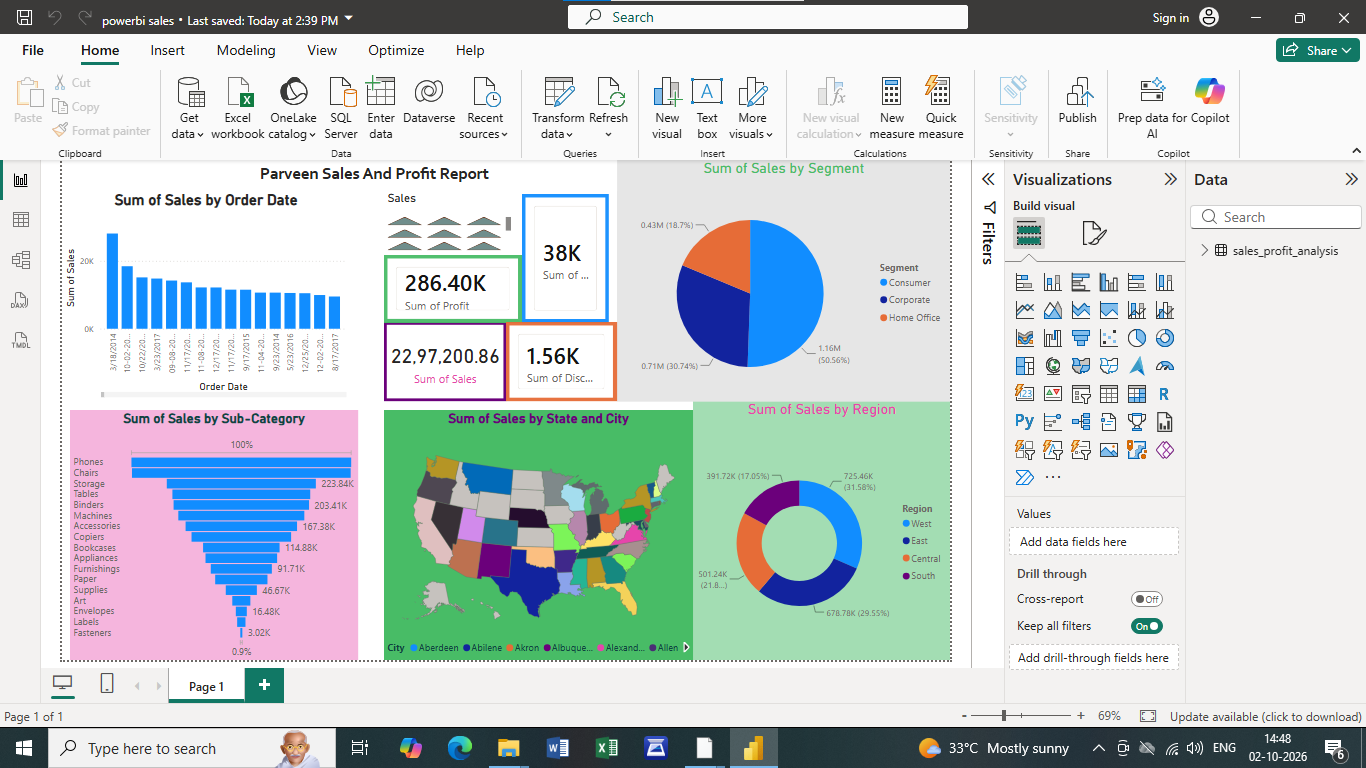

The page's visual inventory and layout, read from the dashboard file:
{"tool":"powerbi","page":{"name":"Page 1","canvas":[1280,720],"ordinal":0},"visuals":[{"type":"donutChart","fields":{"Category":["sales_profit_analysis.Region"],"Y":["Sum(sales_profit_analysis.Sales)"]},"box":[908.8,347.7,371.2,372.9],"z":0},{"type":"funnel","fields":{"Category":["sales_profit_analysis.Sub-Category"],"Y":["Sum(sales_profit_analysis.Sales)"]},"box":[11.8,359.5,414.9,361.2],"z":1000},{"type":"shapeMap","fields":{"Category":["sales_profit_analysis.State"],"Value":["Sum(sales_profit_analysis.Sales)"],"Series":["sales_profit_analysis.City"]},"box":[463.6,359.5,445.1,361.2],"z":2000},{"type":"pieChart","fields":{"Category":["sales_profit_analysis.Segment"],"Y":["Sum(sales_profit_analysis.Sales)"]},"box":[799.6,0,480.4,347.7],"z":3000},{"type":"lineClusteredColumnComboChart","fields":{"Category":["sales_profit_analysis.Order Date"],"Y":["Sum(sales_profit_analysis.Sales)"]},"box":[0,45.4,414.9,302.4],"z":4000},{"type":"card","fields":{"Values":["Sum(sales_profit_analysis.Sales)"]},"box":[463.6,233.5,176.4,114.2],"z":5000},{"type":"cardVisual","fields":{"Data":["Sum(sales_profit_analysis.Profit)"]},"box":[463.7,136.8,198.7,97.9],"z":6000},{"type":"cardVisual","fields":{"Data":["Sum(sales_profit_analysis.Quantity)"]},"box":[662.4,49,125.3,185.8],"z":7000},{"type":"cardVisual","fields":{"Data":["Sum(sales_profit_analysis.Discount)"]},"box":[640,233.5,159.6,114.2],"z":8000},{"type":"textbox","box":[99.1,0,700.5,45.4],"z":9000},{"type":"advancedSlicerVisual","fields":{"Values":["sales_profit_analysis.Sales"]},"box":[463.7,44.6,188.6,92.2],"z":10000}]}

Visuals, with their boxes on the page's 1280x720 design canvas (x1, y1, x2, y2). These are canvas units, not pixel positions in the 1366x768 screenshot, which may show the page scaled, cropped or inside an application window:
donutChart - sales_profit_analysis.Region x Sum(sales_profit_analysis.Sales): select_region(909, 348, 1280, 721)
funnel - sales_profit_analysis.Sub-Category x Sum(sales_profit_analysis.Sales): select_region(12, 360, 427, 721)
shapeMap - sales_profit_analysis.State x Sum(sales_profit_analysis.Sales): select_region(464, 360, 909, 721)
pieChart - sales_profit_analysis.Segment x Sum(sales_profit_analysis.Sales): select_region(800, 0, 1280, 348)
lineClusteredColumnComboChart - sales_profit_analysis.Order Date x Sum(sales_profit_analysis.Sales): select_region(0, 45, 415, 348)
card - Sum(sales_profit_analysis.Sales): select_region(464, 234, 640, 348)
cardVisual - Sum(sales_profit_analysis.Profit): select_region(464, 137, 662, 235)
cardVisual - Sum(sales_profit_analysis.Quantity): select_region(662, 49, 788, 235)
cardVisual - Sum(sales_profit_analysis.Discount): select_region(640, 234, 800, 348)
textbox: select_region(99, 0, 800, 45)
advancedSlicerVisual - sales_profit_analysis.Sales: select_region(464, 45, 652, 137)
